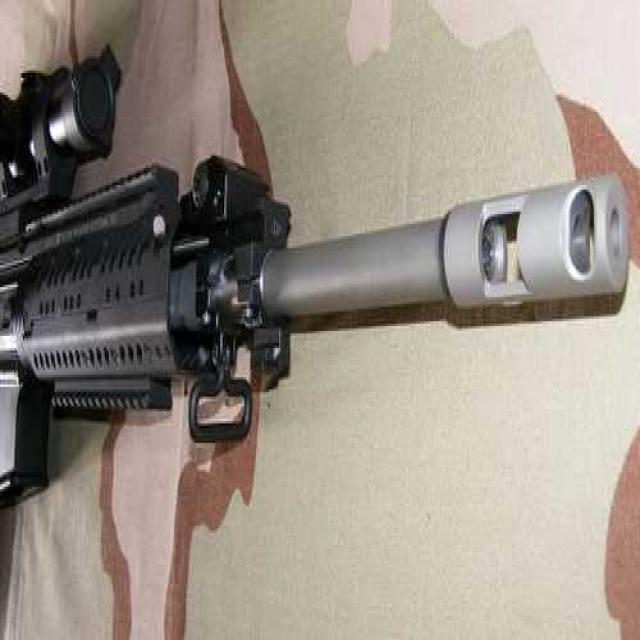RifleTel: (7, 40, 634, 529)
